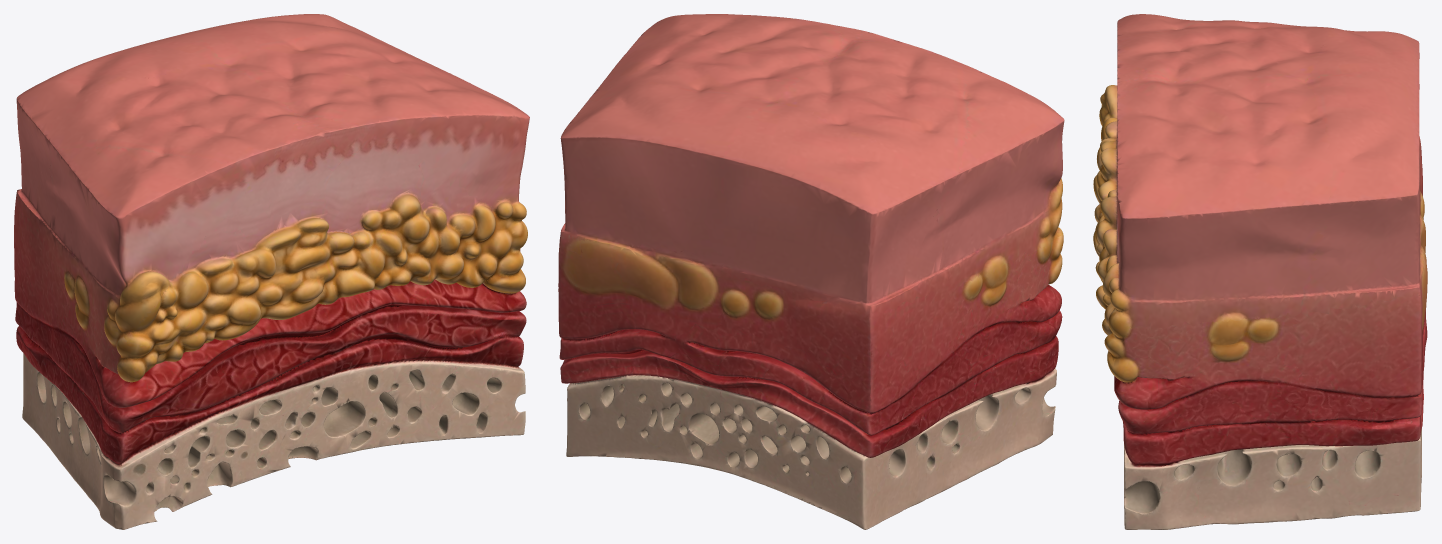
File: skin_layers_opt.glb
The picture shows the model from 3 angles, left to right: view 1: azimuth 30°, elevation 25°; view 2: azimuth 150°, elevation 25°; view 3: azimuth 270°, elevation 25°; orthographic projection.
Bounding box in the file's own units: 1.9 × 1.6 × 1.34.
1 material, 1 textured.
